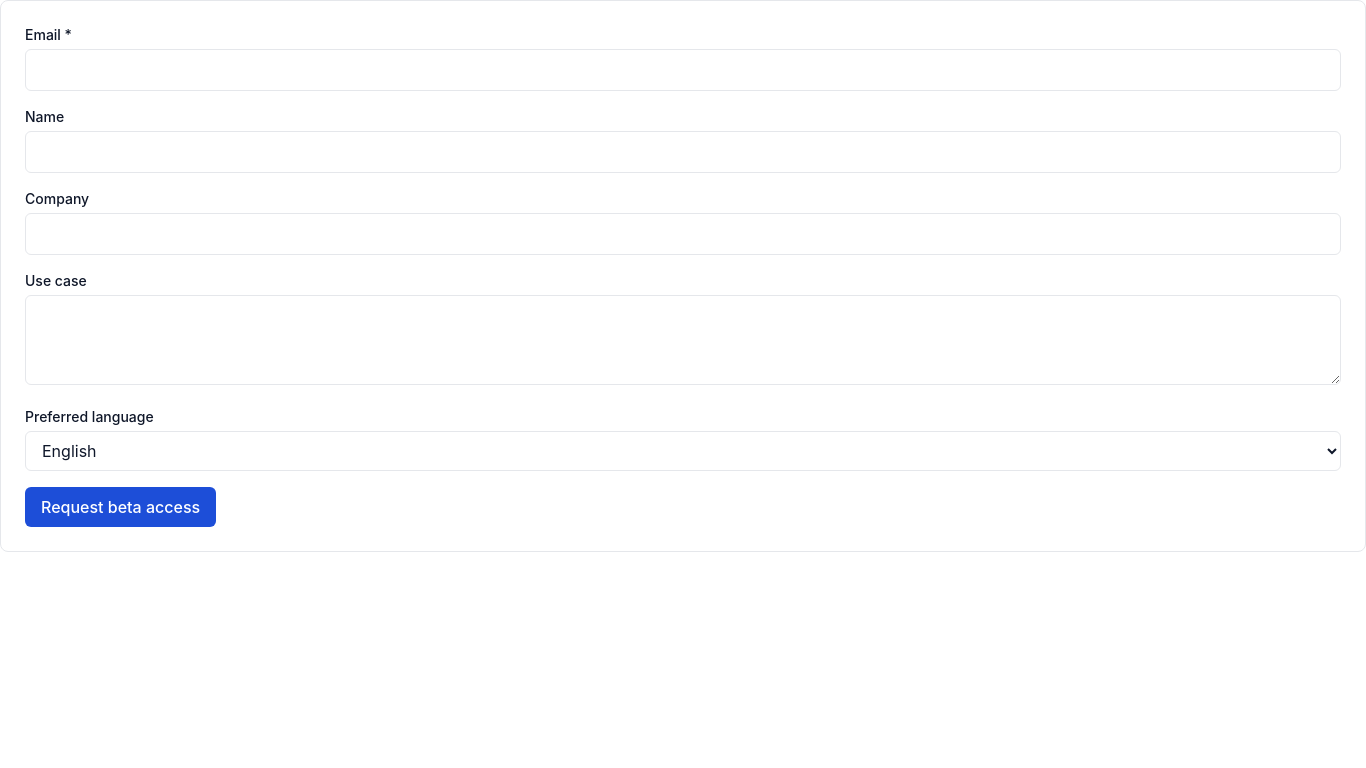
Test: BetaRequestForm — 031 Modul G › renders an error banner when the API returns 429 duplicate
The image size is (1366, 768).
In the field labelled "Email *": (683, 70) [25, 49, 1341, 91], type "dup@example.com"
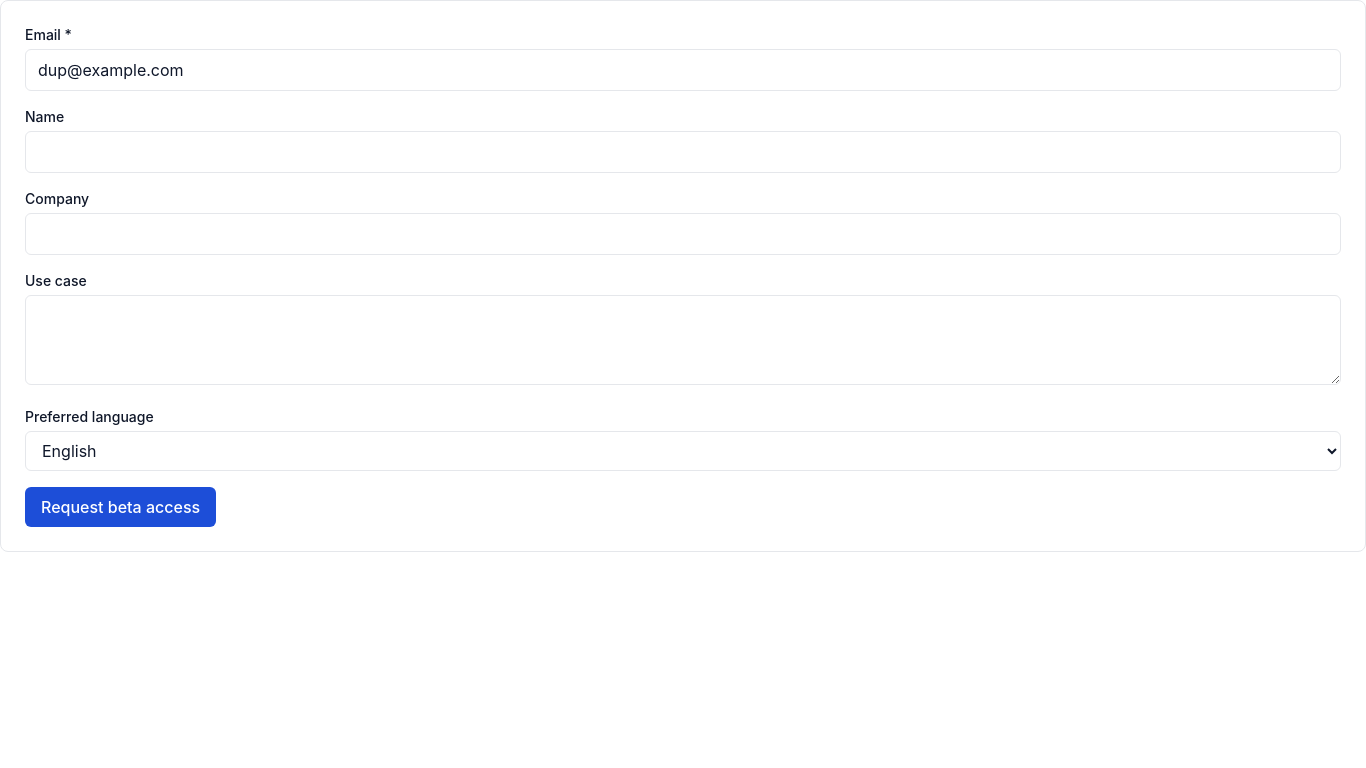
Click the button "Request beta access": click(121, 507) [25, 487, 216, 527]
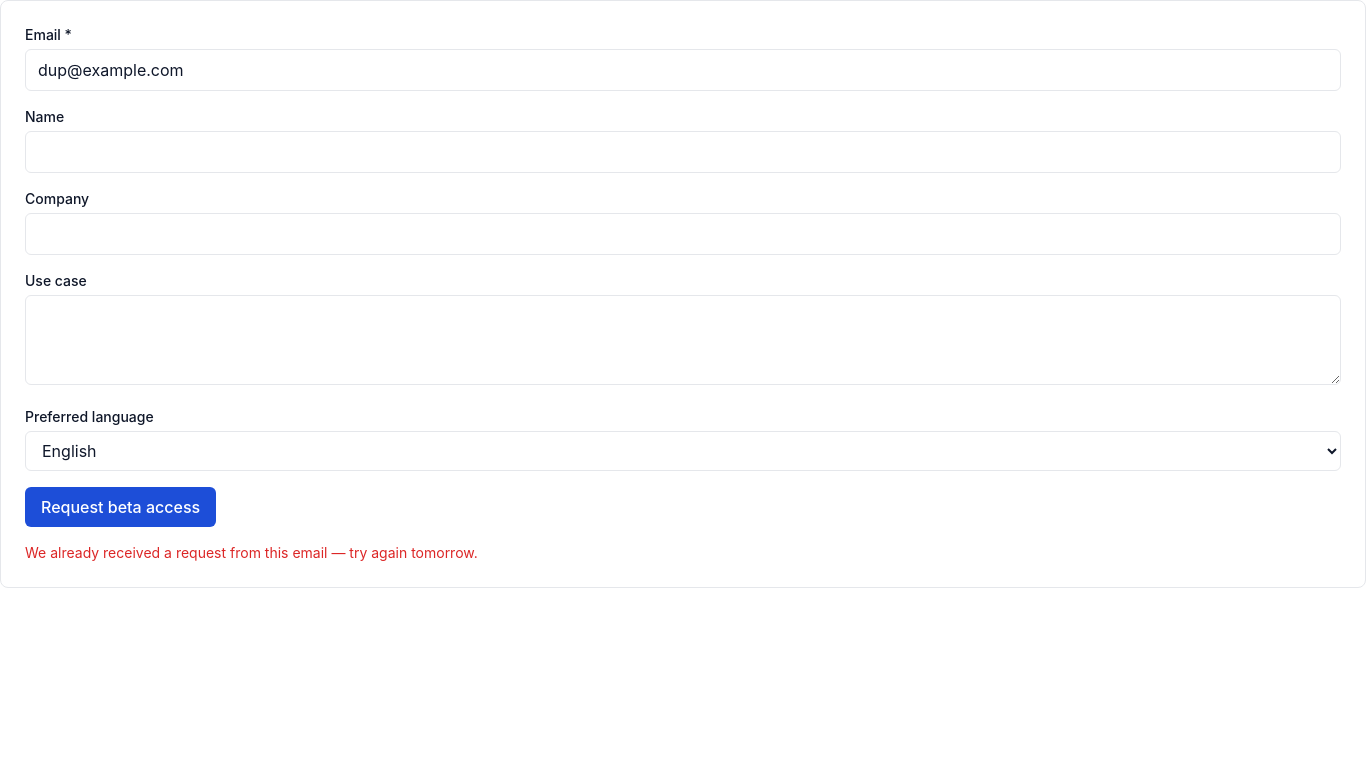
Check: the text with test id "beta-error" reads "We already received a request from this email — try again tomorrow.", box [25, 544, 478, 561]
